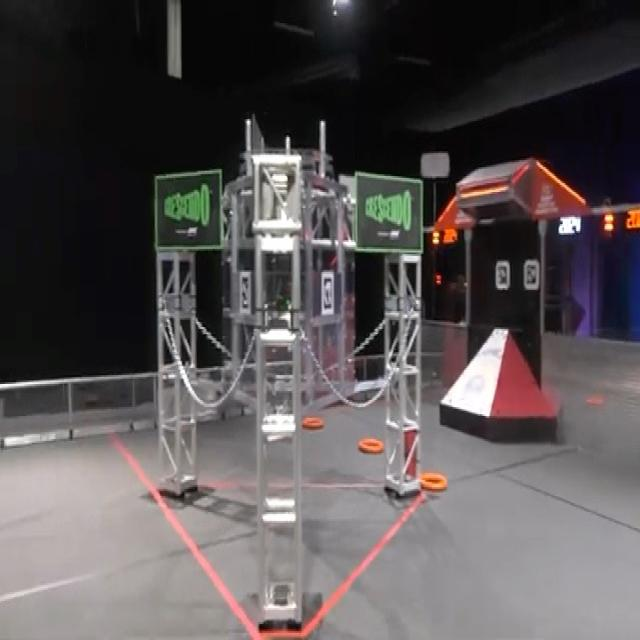note: (421, 471, 449, 492), (359, 437, 384, 454), (302, 414, 324, 430)
